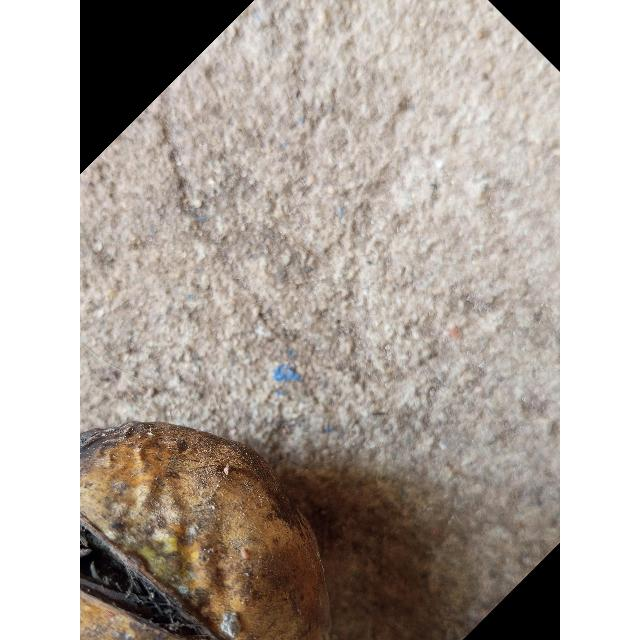damaged: (80, 422, 331, 640)
